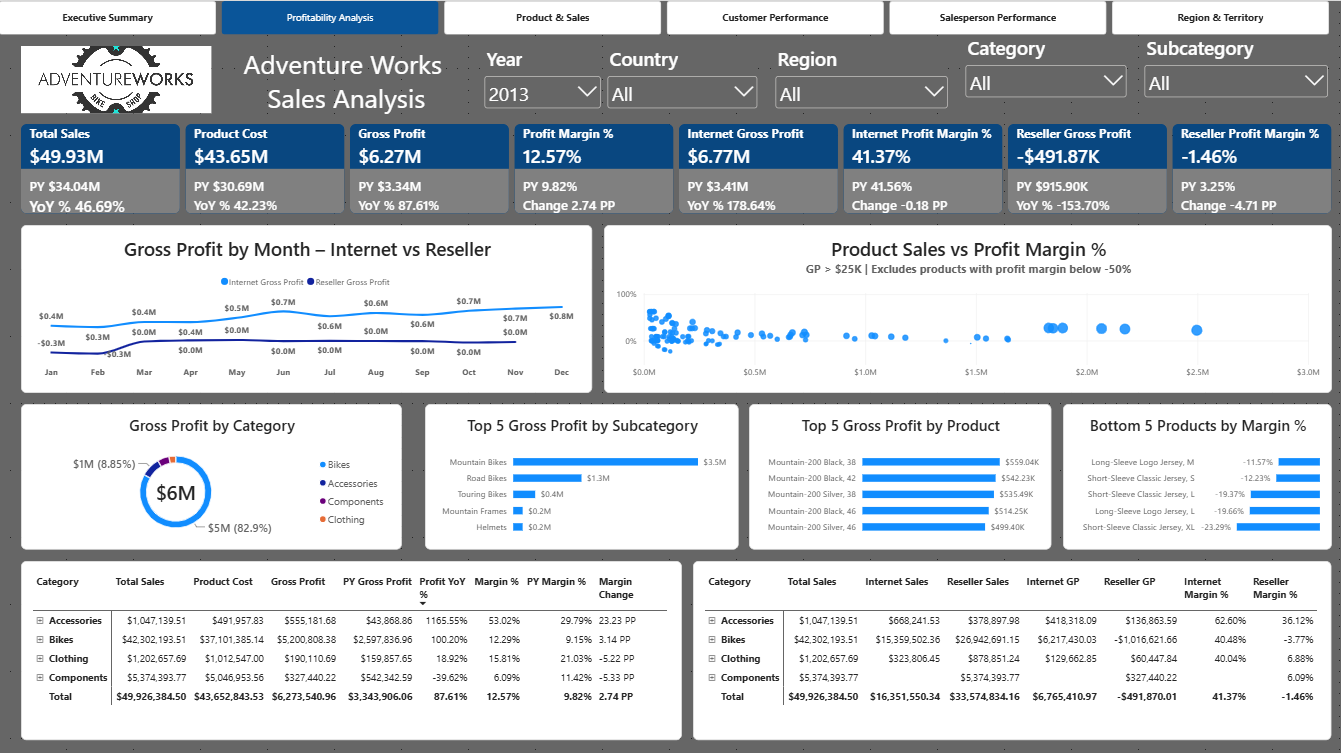

Layout of this report page (visuals, bound fields, positions):
{"tool":"powerbi","page":{"name":"Profitability Analysis","canvas":[1920,1080],"ordinal":1},"visuals":[{"type":"textbox","box":[304,64,384,112],"z":0},{"type":"image","box":[32,64,272,96],"z":1000},{"type":"cardVisual","fields":{"Data":["_Measures.Combined Sales","_Measures.Combined Product Cost","_Measures.Combined Gross Profit","_Measures.Combined Profit Margin %","_Measures.Internet Gross Profit","_Measures.Internet Profit Margin %","_Measures.Reseller Gross Profit","_Measures.Reseller Profit Margin %"]},"box":[32,176,1872,128],"z":2000},{"type":"lineChart","title":"Gross Profit by Month – Internet vs Reseller","fields":{"Category":["DimDate.Short Month Name"],"Y":["_Measures.Internet Gross Profit","_Measures.Reseller Gross Profit"]},"box":[32,320,816,240],"z":3000},{"type":"slicer","fields":{"Values":["DimDate.CalendarYear"]},"box":[688,64,176,96],"z":4000},{"type":"clusteredBarChart","title":"Bottom 5 Products by Margin %","fields":{"Y":["_Measures.Combined Profit Margin %"],"Category":["DimProduct.EnglishProductName"]},"box":[1520,576,384,208],"z":5000},{"type":"clusteredBarChart","title":"Top 5 Gross Profit by Product","fields":{"Category":["DimProduct.EnglishProductName"],"Y":["_Measures.Combined Gross Profit"]},"box":[1072,576,432,208],"z":6000},{"type":"slicer","fields":{"Values":["DimSalesTerritory.SalesTerritoryRegion"]},"box":[1104,64,256,96],"z":7000},{"type":"slicer","fields":{"Values":["DimProductCategory.EnglishProductCategoryName"]},"box":[1376,48,240,96],"z":8000},{"type":"slicer","fields":{"Values":["DimProductSubcategory.EnglishProductSubcategoryName"]},"box":[1632,48,272,96],"z":9000},{"type":"slicer","fields":{"Values":["DimSalesTerritory.SalesTerritoryCountry"]},"box":[864,64,224,96],"z":10000},{"type":"scatterChart","title":"Product Sales vs Profit Margin %","fields":{"X":["_Measures.Combined Sales"],"Y":["_Measures.Combined Profit Margin %"],"Category":["DimProduct.EnglishProductName"],"Size":["_Measures.Combined Gross Profit"]},"box":[864,320,1040,240],"z":11000},{"type":"pivotTable","fields":{"Rows":["DimProductCategory.EnglishProductCategoryName","DimProductSubcategory.EnglishProductSubcategoryName","DimProduct.EnglishProductName"],"Values":["_Measures.Combined Sales","_Measures.Combined Product Cost","_Measures.Combined Gross Profit","_Measures.PY Combined Gross Profit","_Measures.Combined Gross Profit YoY %","_Measures.Combined Profit Margin %","_Measures.PY Combined Profit Margin %","_Measures.Combined Margin Change"]},"box":[32,800,944,256],"z":12000},{"type":"clusteredBarChart","title":"Top 5 Gross Profit by Subcategory","fields":{"Category":["DimProductSubcategory.EnglishProductSubcategoryName"],"Y":["_Measures.Combined Gross Profit"]},"box":[608,576,448,208],"z":13000},{"type":"donutChart","title":"Gross Profit by Category","fields":{"Category":["DimProductCategory.EnglishProductCategoryName"],"Y":["_Measures.Combined Gross Profit"]},"box":[32,576,544,208],"z":14000},{"type":"pivotTable","fields":{"Rows":["DimProductCategory.EnglishProductCategoryName","DimProductSubcategory.EnglishProductSubcategoryName","DimProduct.EnglishProductName"],"Values":["_Measures.Combined Sales","_Measures.Internet Sales","_Measures.Reseller Sales","_Measures.Internet Gross Profit","_Measures.Reseller Gross Profit","_Measures.Internet Profit Margin %","_Measures.Reseller Profit Margin %"]},"box":[992,800,912,256],"z":15000},{"type":"pageNavigator","box":[0,0,1904,48],"z":16000}]}

Visuals, with their boxes in screenshot pixels (x1, y1, x2, y2), scaled from the page's 1920x1080 canvas onto the 1341x753 screenshot:
textbox: <box>212,45,481,123</box>
image: <box>22,45,212,112</box>
cardVisual - _Measures.Combined Sales x _Measures.Combined Product Cost: <box>22,123,1330,212</box>
"Gross Profit by Month – Internet vs Reseller" lineChart: <box>22,223,592,390</box>
slicer - DimDate.CalendarYear: <box>481,45,603,112</box>
"Bottom 5 Products by Margin %" clusteredBarChart: <box>1062,402,1330,547</box>
"Top 5 Gross Profit by Product" clusteredBarChart: <box>749,402,1050,547</box>
slicer - DimSalesTerritory.SalesTerritoryRegion: <box>771,45,950,112</box>
slicer - DimProductCategory.EnglishProductCategoryName: <box>961,33,1129,100</box>
slicer - DimProductSubcategory.EnglishProductSubcategoryName: <box>1140,33,1330,100</box>
slicer - DimSalesTerritory.SalesTerritoryCountry: <box>603,45,760,112</box>
"Product Sales vs Profit Margin %" scatterChart: <box>603,223,1330,390</box>
pivotTable - DimProductCategory.EnglishProductCategoryName x DimProductSubcategory.EnglishProductSubcategoryName: <box>22,558,682,736</box>
"Top 5 Gross Profit by Subcategory" clusteredBarChart: <box>425,402,738,547</box>
"Gross Profit by Category" donutChart: <box>22,402,402,547</box>
pivotTable - DimProductCategory.EnglishProductCategoryName x DimProductSubcategory.EnglishProductSubcategoryName: <box>693,558,1330,736</box>
pageNavigator: <box>0,0,1330,33</box>
